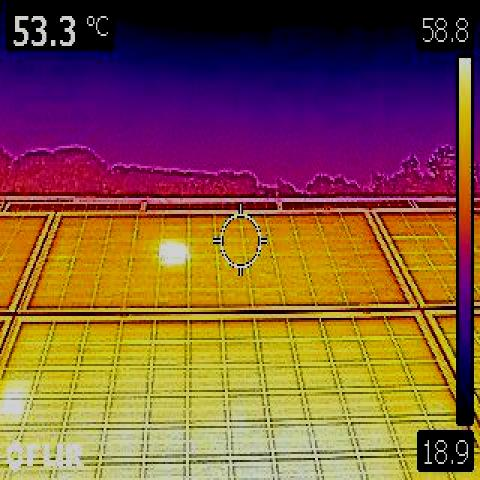fault: (0, 381, 32, 422), (161, 239, 185, 264)
